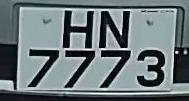3: (135, 47, 168, 90)
7: (22, 46, 65, 92), (60, 48, 98, 91), (96, 48, 132, 89)
H: (55, 7, 101, 52)
N: (95, 5, 138, 52)
